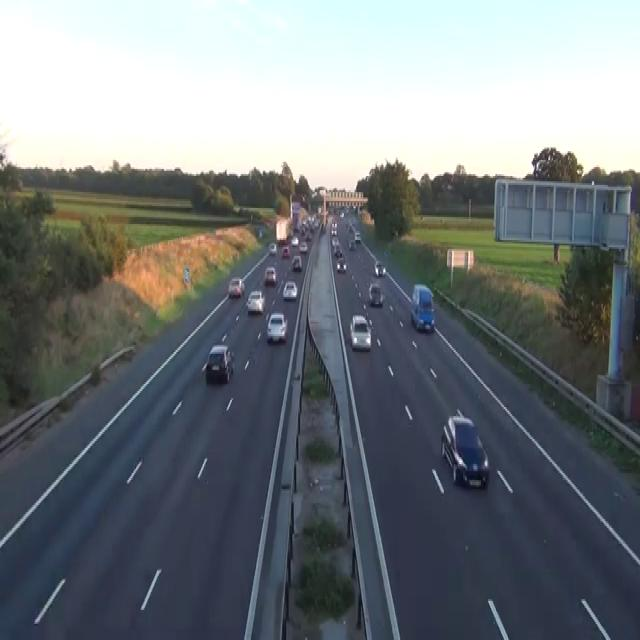Car: (440, 409, 490, 489), (410, 282, 435, 332), (205, 343, 234, 382), (349, 313, 371, 350), (266, 311, 287, 343), (245, 290, 265, 313), (368, 282, 384, 306), (227, 277, 245, 297), (282, 281, 297, 300), (264, 266, 276, 284), (331, 238, 341, 256), (291, 254, 302, 270), (336, 256, 346, 272), (374, 262, 385, 276), (281, 245, 290, 258), (331, 236, 340, 249), (268, 242, 277, 254), (334, 245, 342, 258), (299, 240, 307, 252), (354, 229, 361, 242), (330, 222, 337, 235), (348, 238, 356, 249), (291, 235, 298, 245), (348, 222, 354, 233), (304, 231, 311, 240), (345, 218, 350, 228), (339, 210, 344, 218), (258, 228, 262, 238)
Truck: (291, 201, 301, 229)
